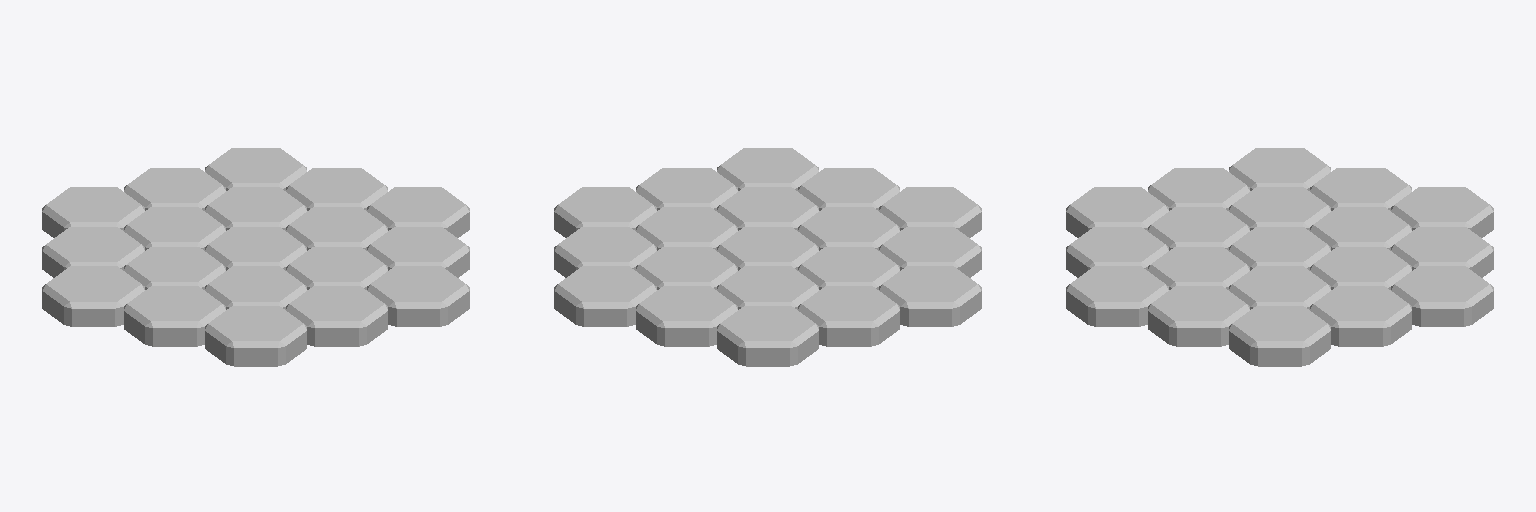
The model's file is plat_larg.obj.
3 views of the same model, side by side, from view 1: azimuth 30°, elevation 25°; view 2: azimuth 150°, elevation 25°; view 3: azimuth 270°, elevation 25° (orthographic).
Visible parts, largest first — view 1: Cylinder.015; view 2: Cylinder.015; view 3: Cylinder.015.
Part boxes in pixels (x1,y1,x2,y2): Cylinder.015: (42,148,469,366); Cylinder.015: (554,148,981,366); Cylinder.015: (1066,148,1493,366).
Size of the model in its own units: 1.83 by 0.1 by 1.67.